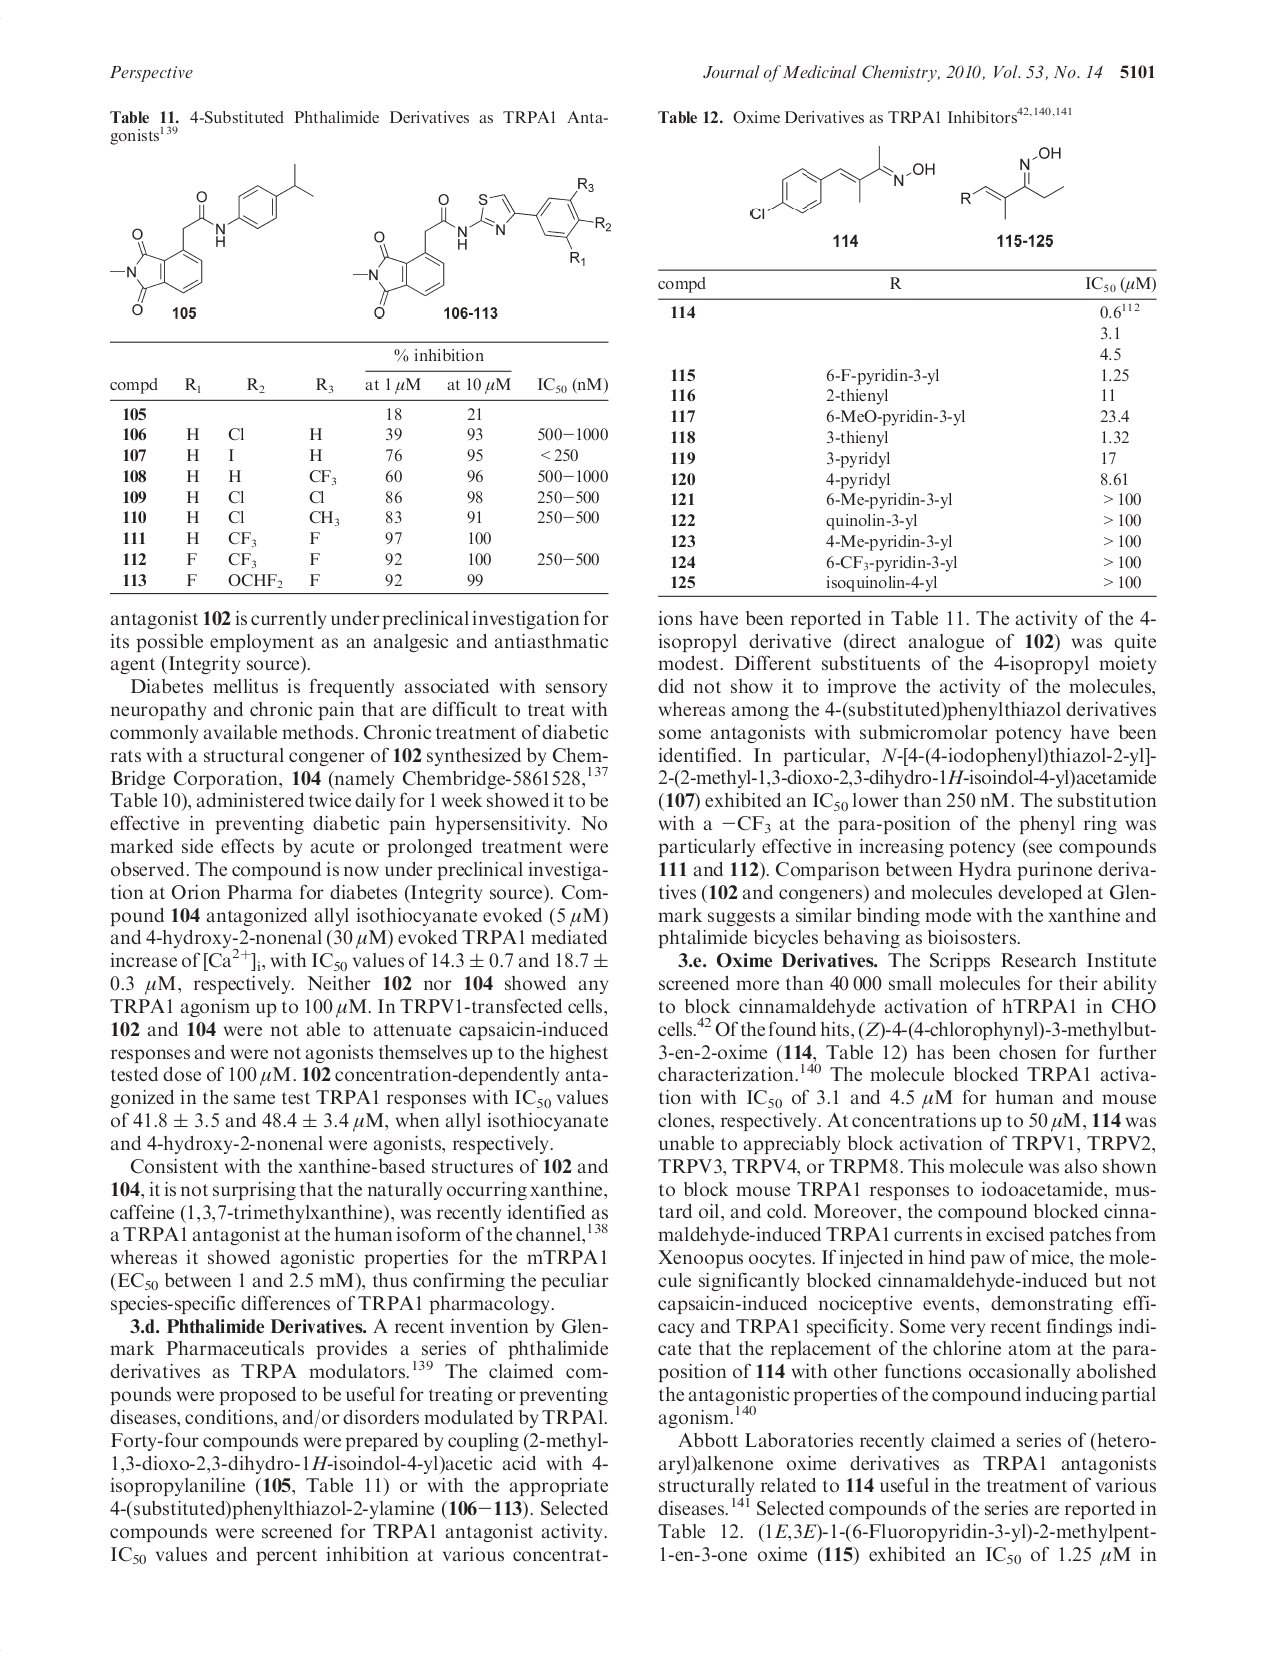exist_molecular: (350, 168, 620, 326), (106, 161, 320, 319), (741, 136, 943, 233), (955, 142, 1078, 230)
